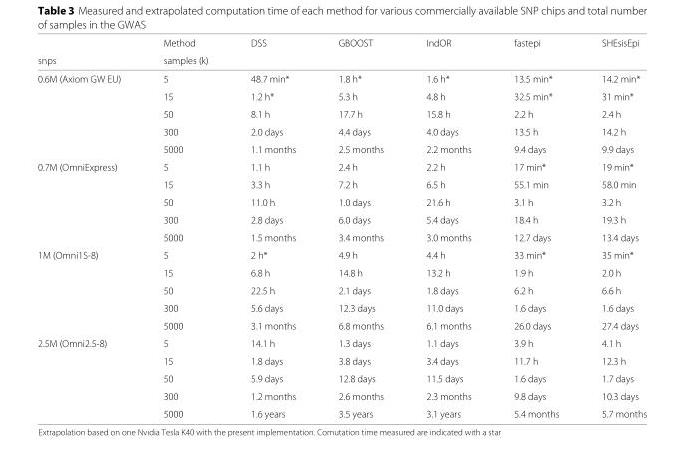table: (36, 36, 646, 419)
table column: (36, 36, 141, 419), (228, 36, 316, 419), (316, 36, 404, 419), (491, 36, 579, 419), (141, 36, 228, 419), (404, 36, 491, 419), (579, 36, 646, 419)
table column header: (36, 36, 646, 69)
table row: (36, 51, 646, 69), (36, 69, 646, 87), (36, 104, 646, 122), (36, 122, 646, 140), (36, 157, 646, 175), (36, 175, 646, 193), (36, 210, 646, 228), (36, 245, 646, 263), (36, 263, 646, 281), (36, 298, 646, 316), (36, 316, 646, 334), (36, 351, 646, 369), (36, 369, 646, 387), (36, 87, 646, 104), (36, 140, 646, 157), (36, 193, 646, 210), (36, 228, 646, 245), (36, 281, 646, 298), (36, 334, 646, 351), (36, 387, 646, 404), (36, 36, 646, 51), (36, 404, 646, 419)
table spanning cell: (36, 245, 141, 334), (36, 69, 141, 157), (36, 157, 141, 245), (36, 334, 141, 419), (36, 36, 141, 69), (228, 36, 316, 69), (316, 36, 404, 69), (491, 36, 579, 69), (141, 36, 228, 69), (404, 36, 491, 69), (579, 36, 646, 69)
